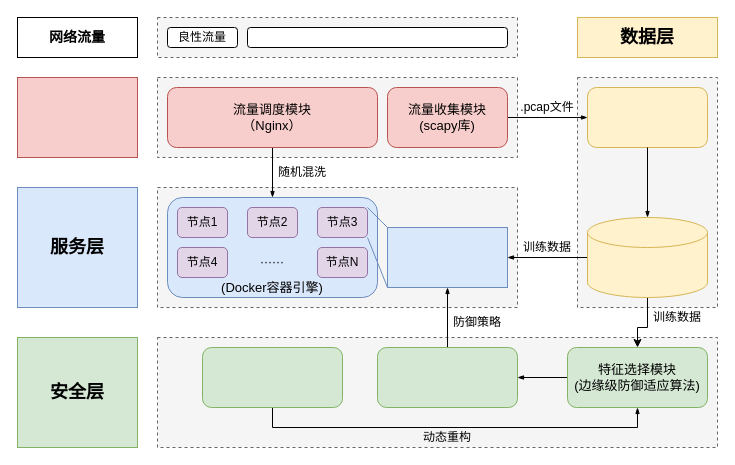
The diagram is 735 pixels wide and 465 high, and some of its shapes have lost their labels. Here are the shapes that lost their labels. From the top down, the centre of each, then its label:
pixel 377 37: 恶意流量(Botnet、DDoS、Heartbleed......)
pixel 77 117: 接入层
pixel 647 117: 流量处理模块 (CICFlowMeter)
pixel 447 257: 入侵检测模型 (深度神经网络)
pixel 647 257: 数据存储模块 (Apache Parquet)
pixel 272 377: 安全态势感知模块
pixel 447 377: 防御策略生成模块 (全局级防御适应算法)
